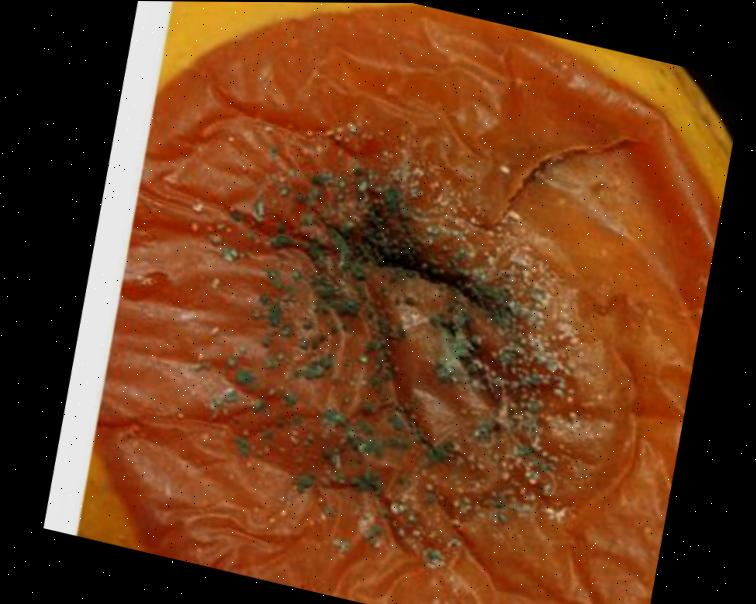ROT: (60, 0, 752, 604)
